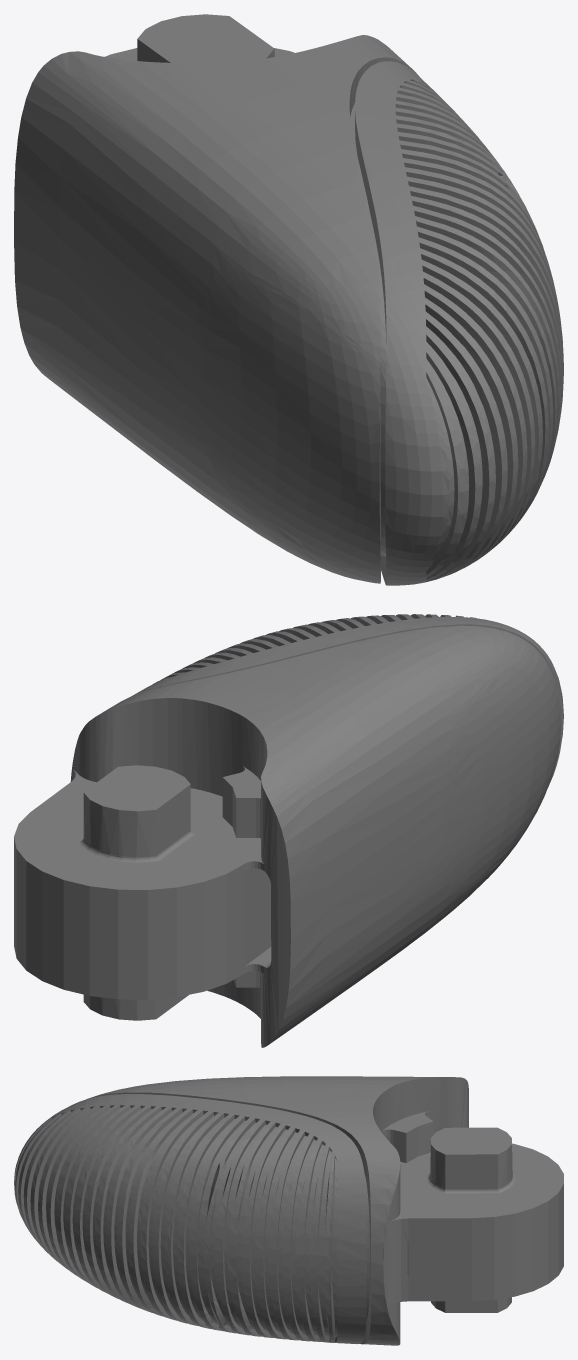
File: rh_index_distal_vis.obj
3 renders of one model, top to bottom at view 1: azimuth 30°, elevation 25°; view 2: azimuth 150°, elevation 25°; view 3: azimuth 270°, elevation 25°, orthographic. The views are drawn at different scales.
Parts seen in each view (by area): view 1: rh_index_distal; view 2: rh_index_distal; view 3: rh_index_distal.
Boxes of the visible parts, x1,y1,x2,y2 form: rh_index_distal: [14, 14, 563, 585]; rh_index_distal: [14, 614, 563, 1047]; rh_index_distal: [14, 1076, 563, 1345].
Size of the model in its own units: 0.015 by 0.0145 by 0.033.
Materials: 1 (1 with a texture image).
